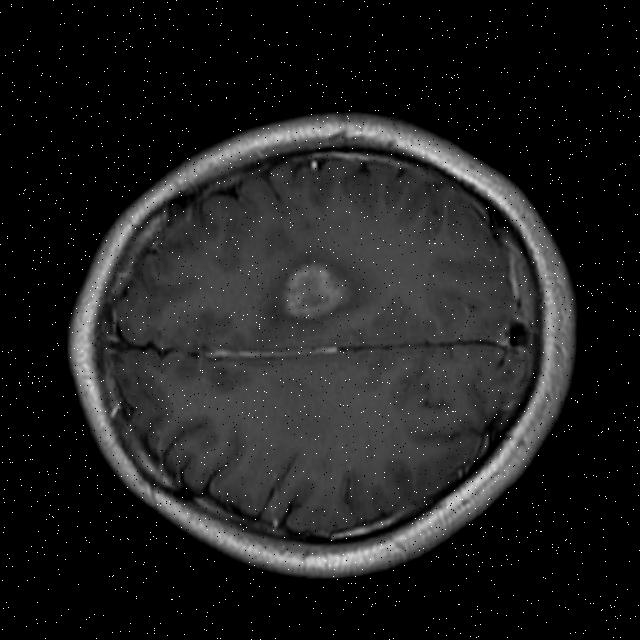Glioma: (277, 255, 353, 323)
